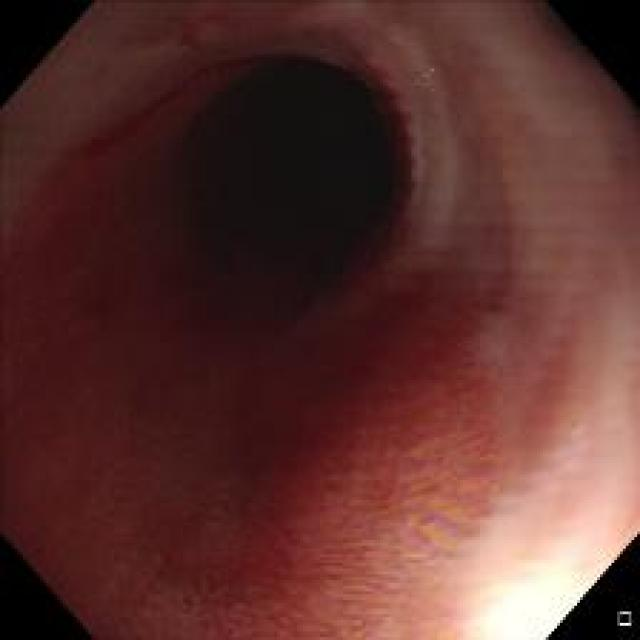contrast: (162, 51, 410, 425)
saturation: (471, 540, 602, 630)
